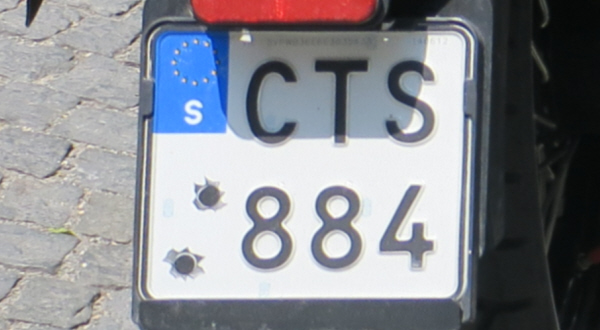license_plate: (140, 25, 471, 300)
